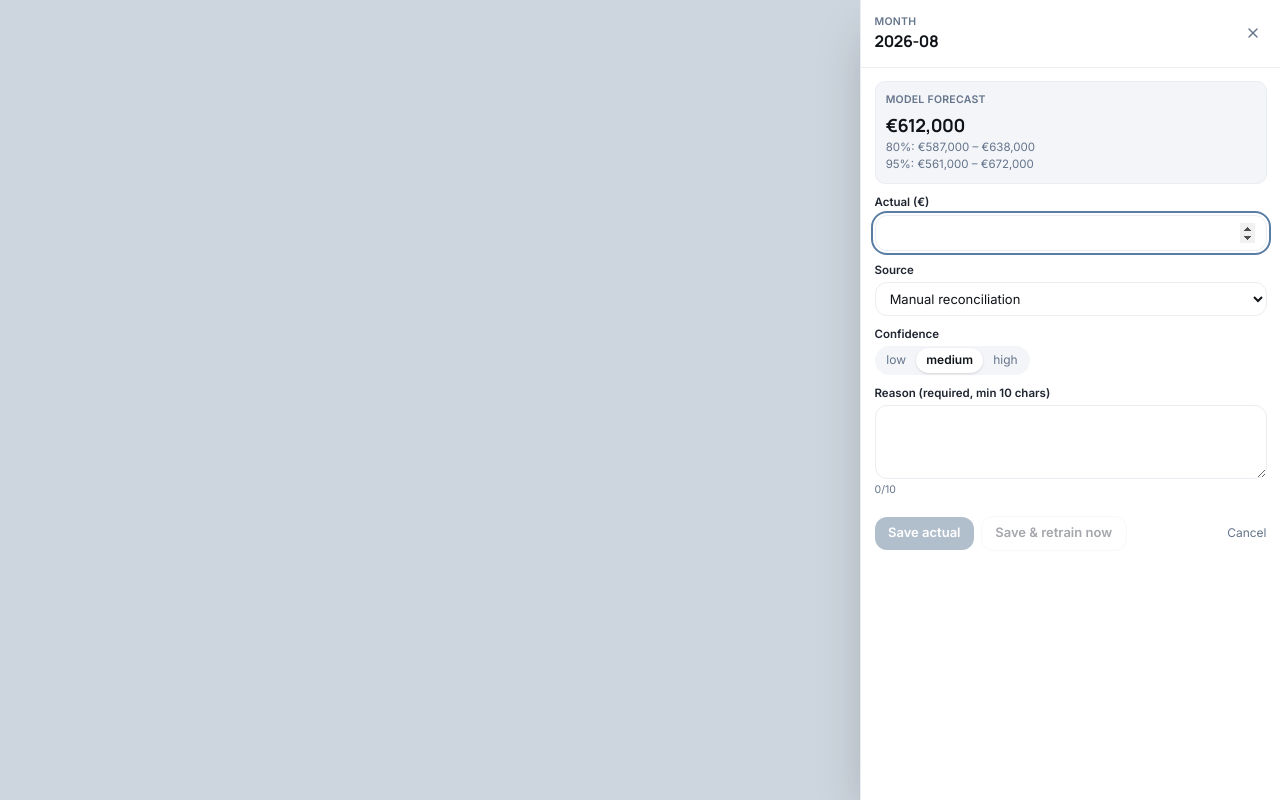
Scenario: ActualEntryPanel › renders an error message and does NOT close when save fails
This screenshot has width=1280, height=800.
Type "650000" into the number field with test id "actual-input".
click(1070, 233); type("650000")  # box [874, 215, 1266, 251]
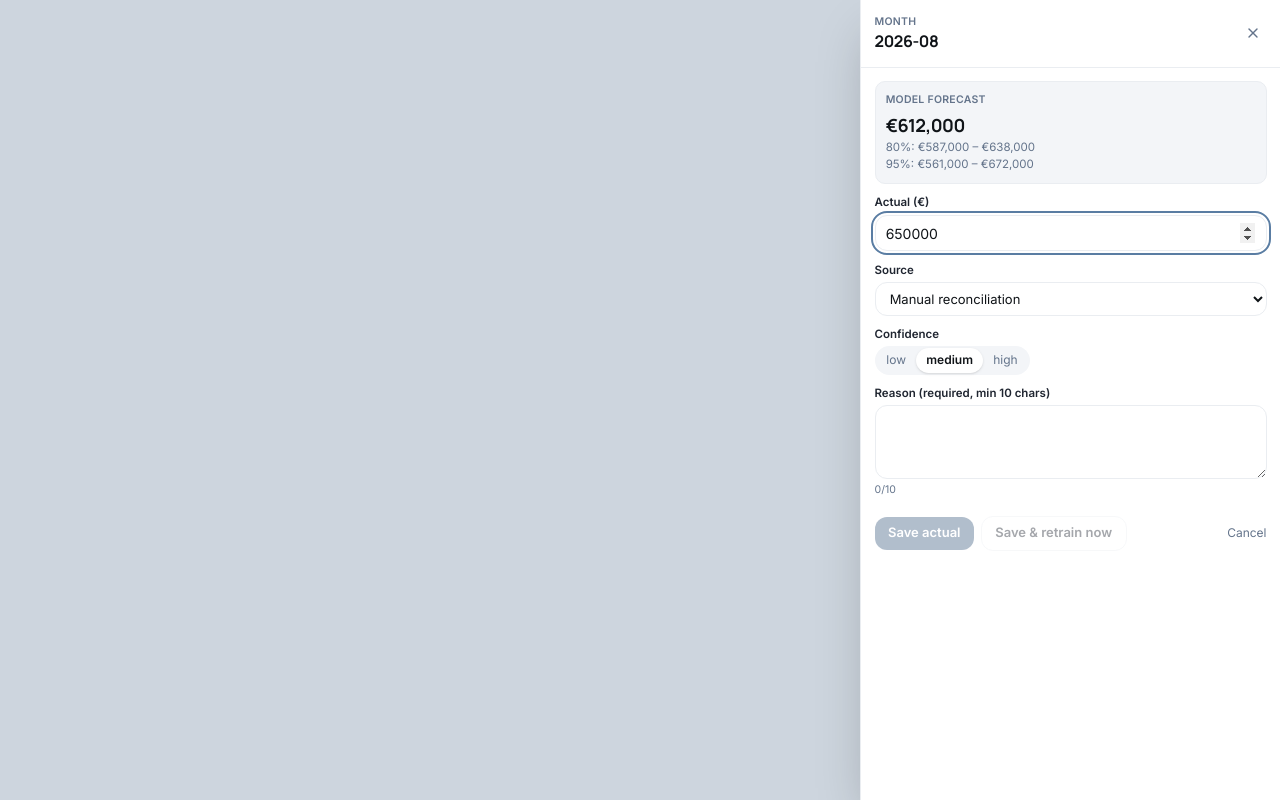
Type "reason long enough to pass" into the text box with test id "reason-input".
click(1070, 442); type("reason long enough to pass")  # box [874, 405, 1266, 479]
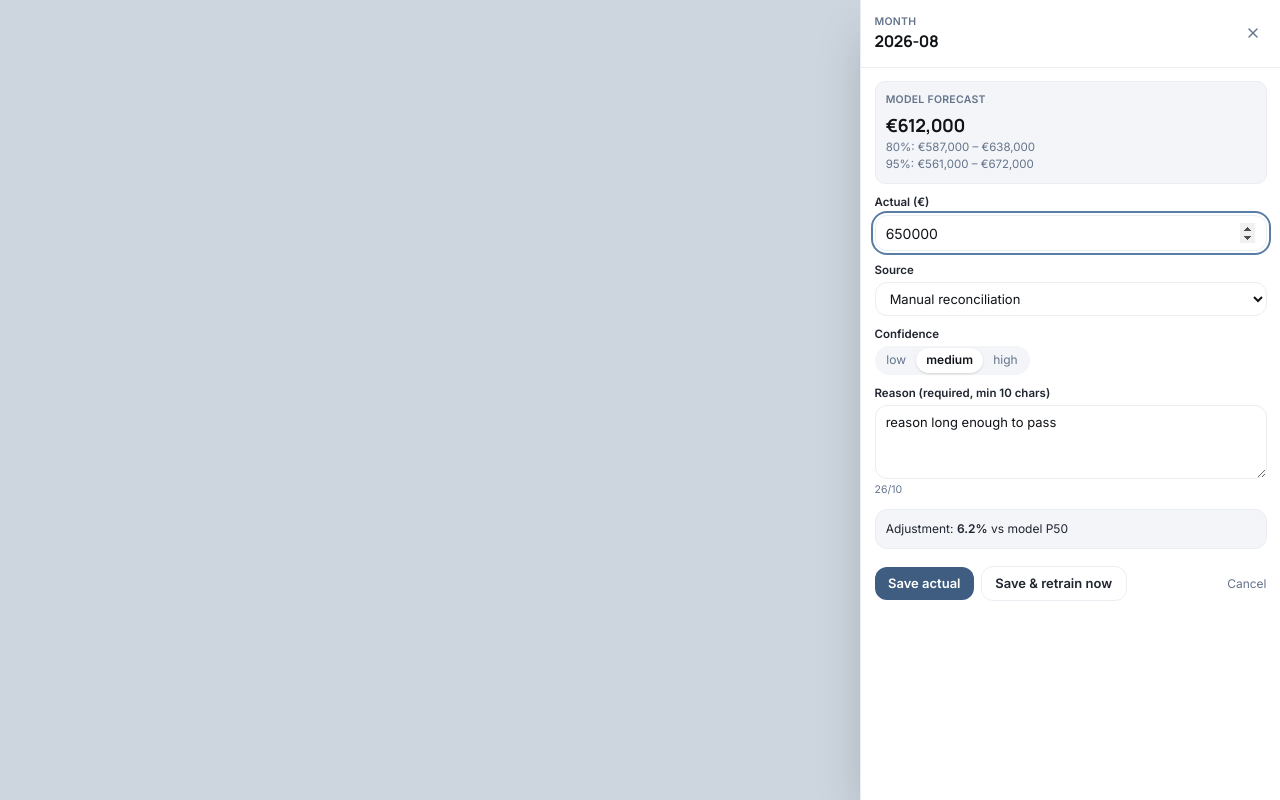
Click the button "Save actual".
click(924, 584)  # box [874, 567, 974, 600]
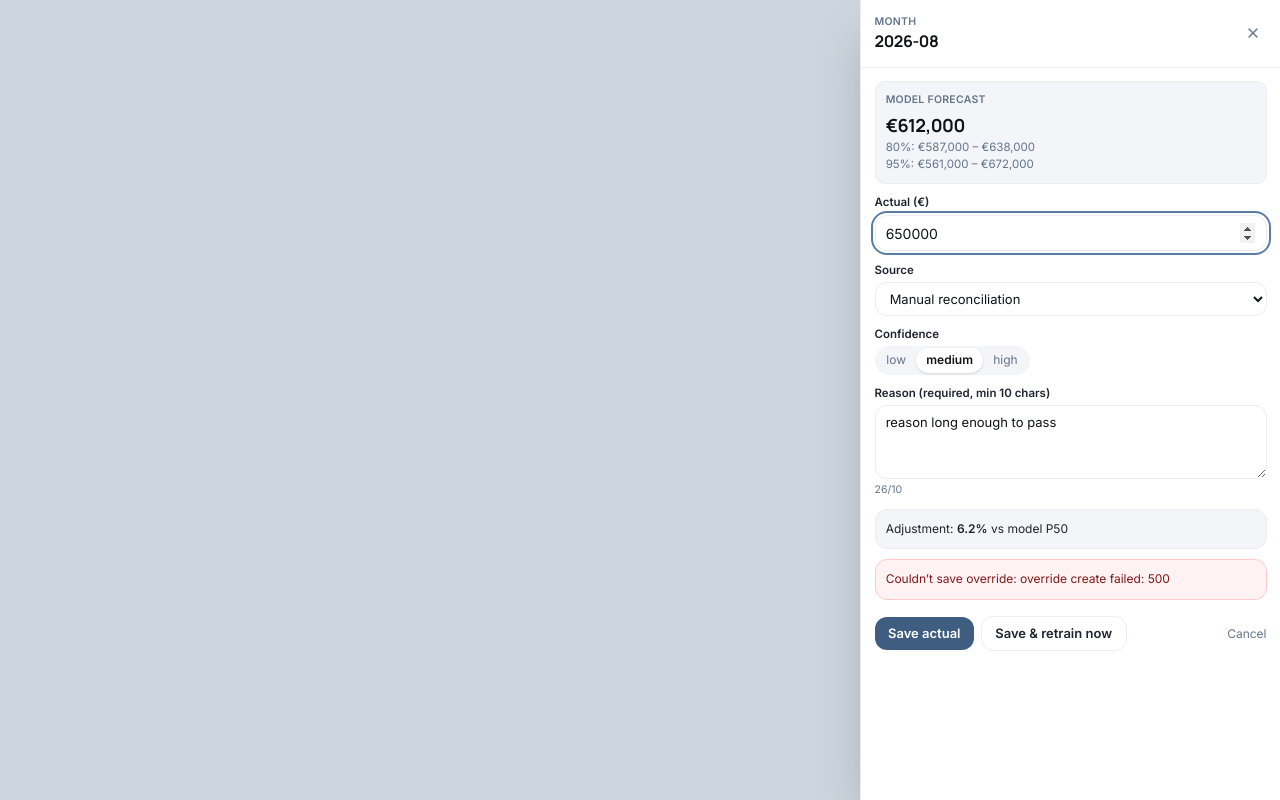
Expected: the message "Couldn’t save override: override create failed: 500" is shown, [874, 559, 1266, 600]
